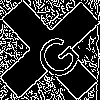G: (25, 25, 85, 84)
